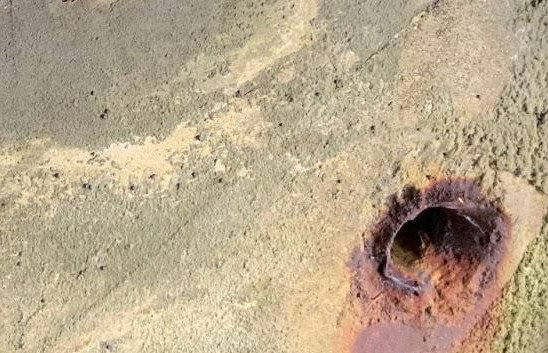Corrosion: (343, 172, 513, 353)
